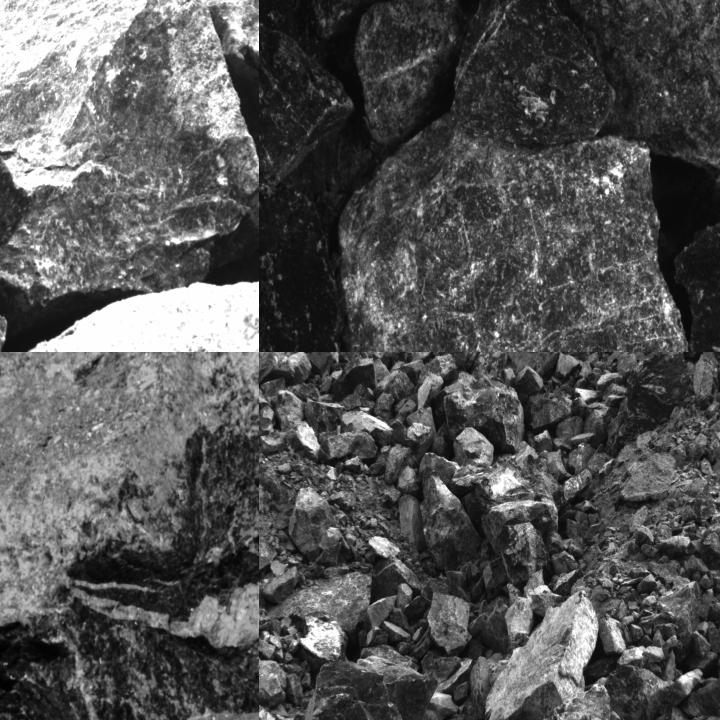stone: (374, 67, 719, 351), (0, 0, 258, 304), (474, 0, 719, 178), (452, 0, 617, 146), (259, 0, 355, 195), (14, 278, 258, 351), (354, 0, 469, 150), (176, 0, 258, 187), (259, 177, 346, 351), (484, 598, 594, 719), (270, 0, 478, 43), (611, 352, 695, 455), (444, 377, 524, 452), (420, 475, 481, 573), (301, 660, 401, 719), (288, 487, 336, 564), (529, 676, 613, 719), (503, 524, 551, 596), (653, 582, 699, 655), (606, 666, 668, 719), (426, 592, 474, 656), (370, 556, 424, 606), (297, 615, 345, 663), (331, 356, 377, 402), (526, 391, 574, 434), (319, 431, 377, 463), (495, 352, 561, 377), (480, 599, 510, 653), (454, 426, 494, 465), (681, 679, 719, 719), (306, 398, 346, 435), (374, 368, 414, 400), (284, 422, 320, 456), (275, 390, 304, 429), (694, 357, 716, 407), (430, 352, 481, 373), (416, 372, 445, 408), (514, 368, 546, 398), (555, 354, 580, 379)
